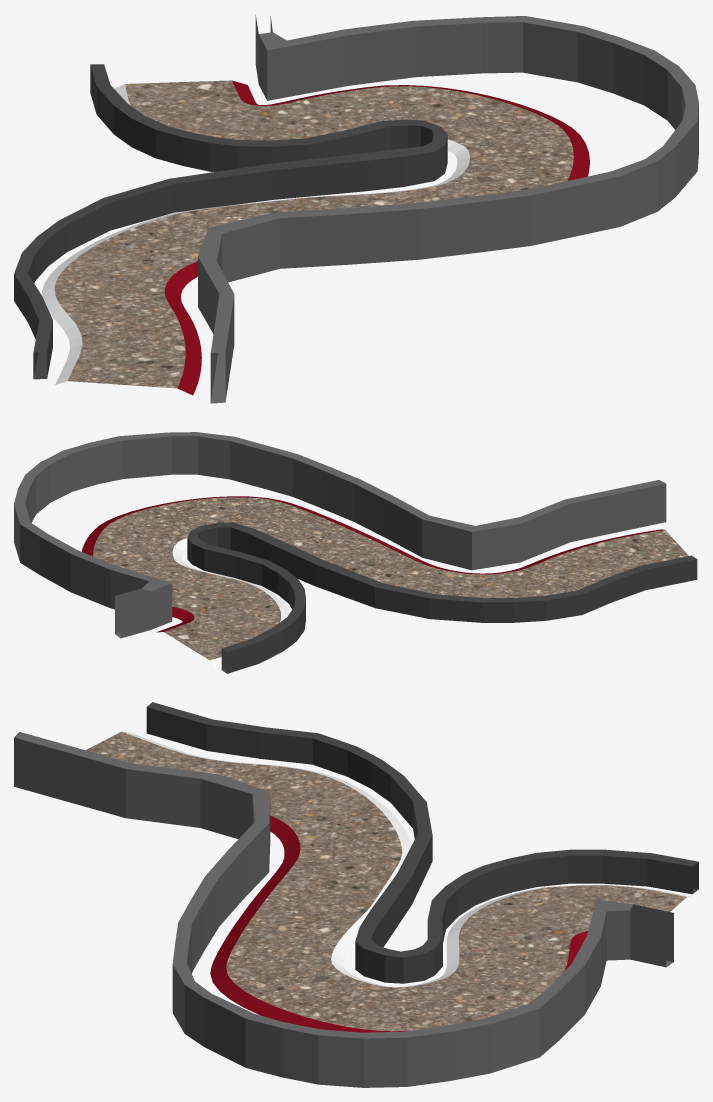
File: KartTrackS4.fbx
The picture shows the model from 3 angles, top to bottom: view 1: azimuth 30°, elevation 25°; view 2: azimuth 150°, elevation 25°; view 3: azimuth 270°, elevation 25°; orthographic projection. The views are drawn at different scales.
Visible parts, largest first — view 1: PistaS4; view 2: PistaS4; view 3: PistaS4.
Boxes of the visible parts, left/top/right/bottom form: PistaS4: left=14, top=15, right=698, bottom=403; PistaS4: left=14, top=432, right=698, bottom=673; PistaS4: left=14, top=702, right=698, bottom=1087.
Size of the model in its own units: 11687 by 773 by 9429.
